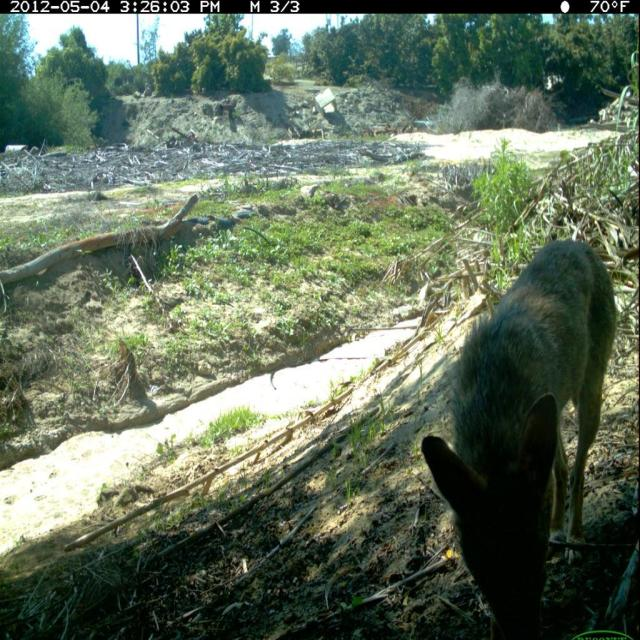coyote: (418, 231, 623, 640)
